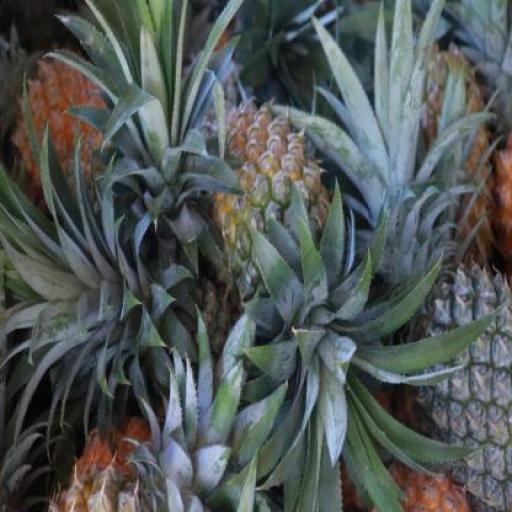------------------------------: (202, 103, 341, 313)
